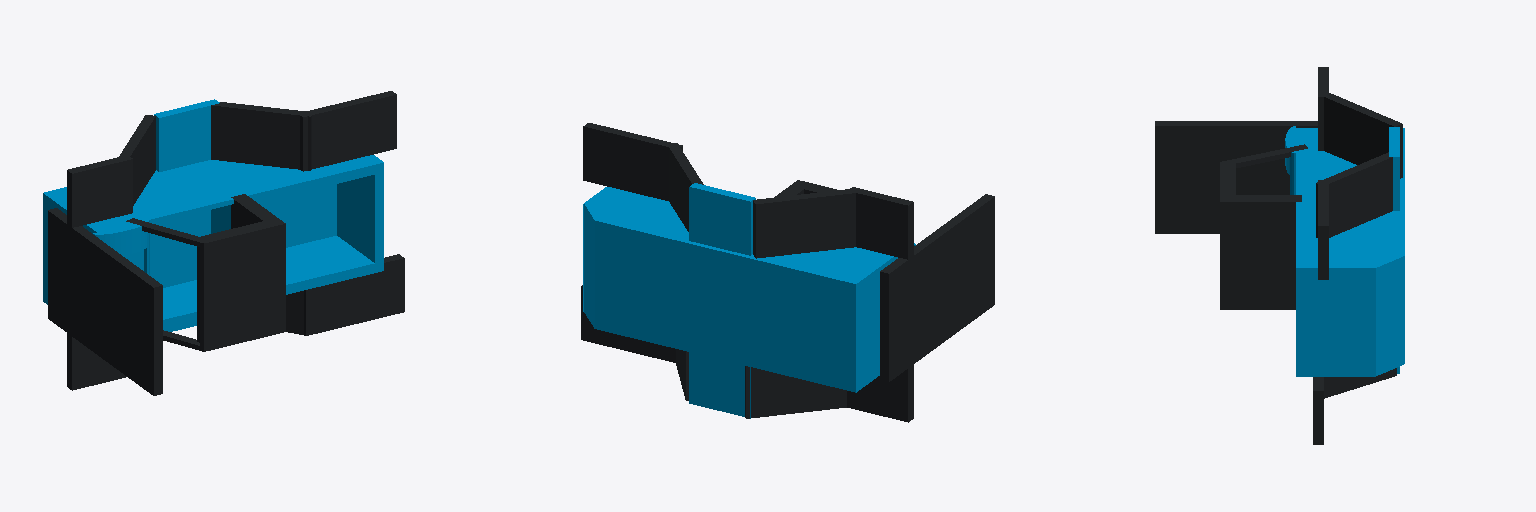
File: tinker.obj
3 views of the same model, side by side, from view 1: azimuth 30°, elevation 25°; view 2: azimuth 150°, elevation 25°; view 3: azimuth 270°, elevation 25° (orthographic).
Parts seen in each view (by area): view 1: obj_0; view 2: obj_0; view 3: obj_0.
Boxes of the visible parts, <box> form: obj_0: <box>43,91,404,395</box>; obj_0: <box>581,123,994,422</box>; obj_0: <box>1155,67,1404,444</box>.
Bounding box in the file's own units: 70 × 44 × 46.